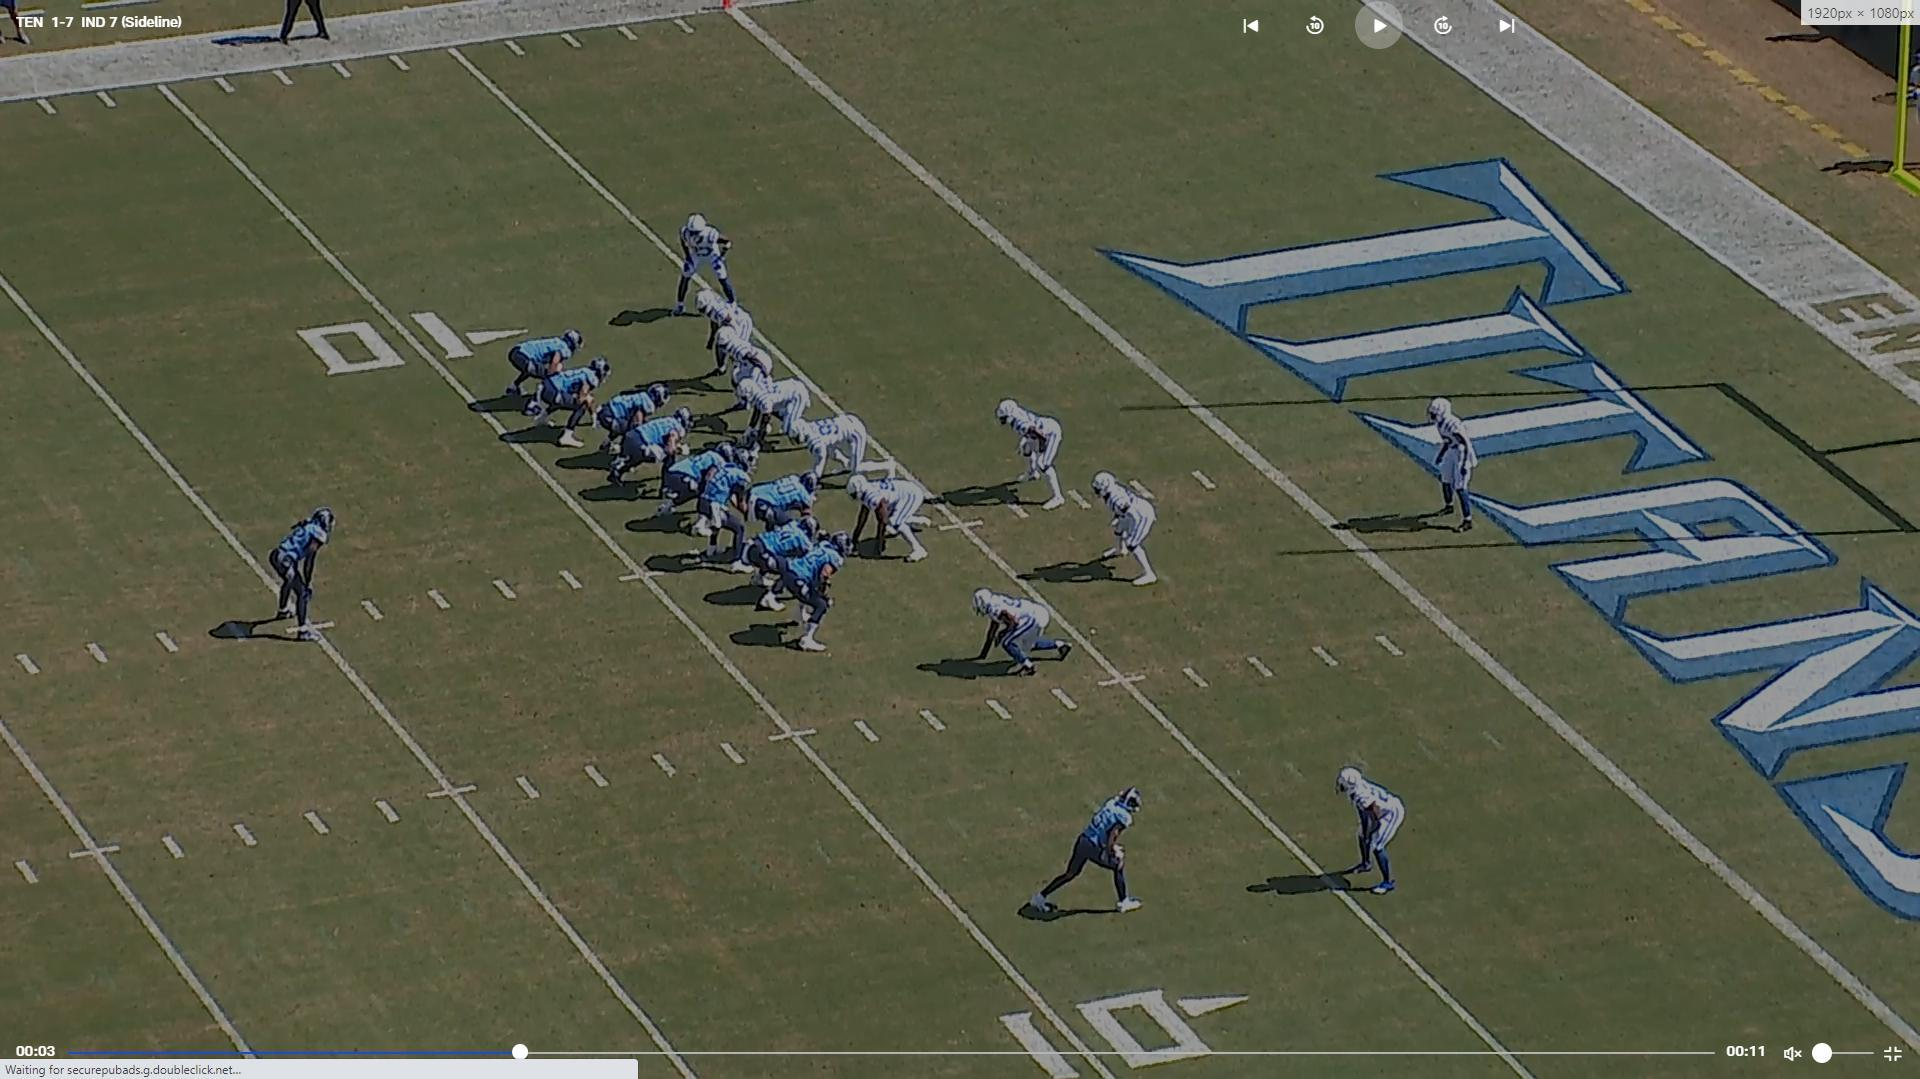defense: (1325, 761, 1404, 902), (971, 583, 1078, 680), (1088, 468, 1161, 594), (995, 393, 1071, 514), (840, 470, 931, 565), (1423, 395, 1484, 536), (802, 416, 899, 499), (738, 370, 823, 455), (687, 293, 751, 397), (677, 212, 736, 320), (718, 325, 774, 381)
oline: (760, 533, 852, 660), (654, 443, 744, 530), (609, 410, 695, 498), (752, 517, 817, 613), (746, 475, 819, 533)
qb: (693, 454, 760, 577)
ref: (276, 0, 342, 44)
skill: (1016, 782, 1150, 929), (268, 502, 343, 647), (527, 357, 614, 449), (497, 328, 586, 417), (598, 383, 673, 456)
